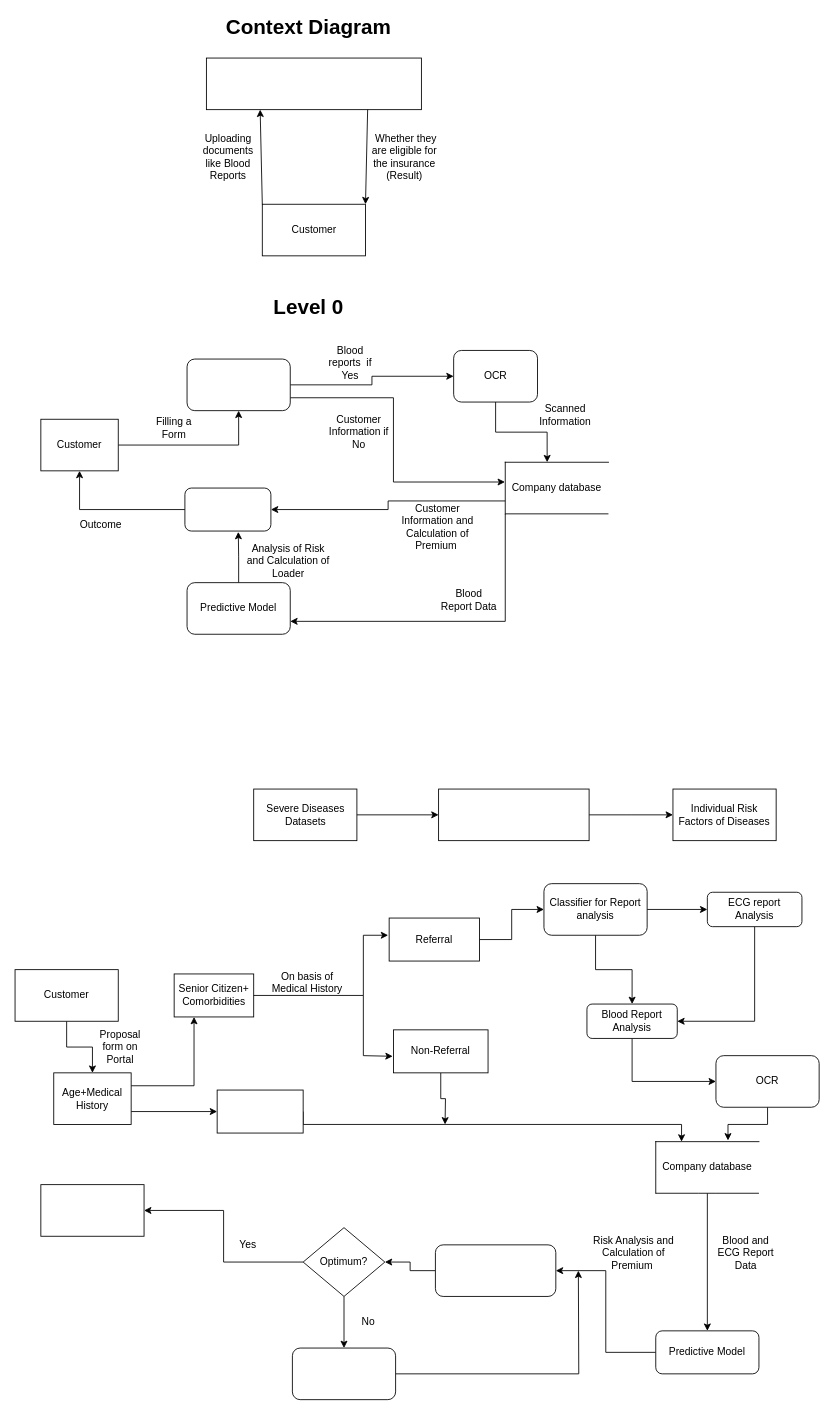
The diagram is 834 pixels wide and 1415 high, and some of its shapes have lost their labels. Each missing label, with the box of its shape:
Check if the Customer is a Senior Citizen or has any comorbidities: (186, 358, 290, 411)
Data Visualisation + Data Analytics Model: (438, 788, 589, 841)
Eligibility Process and Cost Output: (184, 487, 271, 531)
Insurance Issuance: (40, 1184, 144, 1236)
Machine Learning Algorithms for Insurance Eligibility: (206, 57, 421, 110)
Normal: (216, 1089, 303, 1133)
Premium +Loader and Claim-Loss Ratio Computation: (435, 1244, 556, 1296)
Premium Increase: (292, 1347, 396, 1400)
